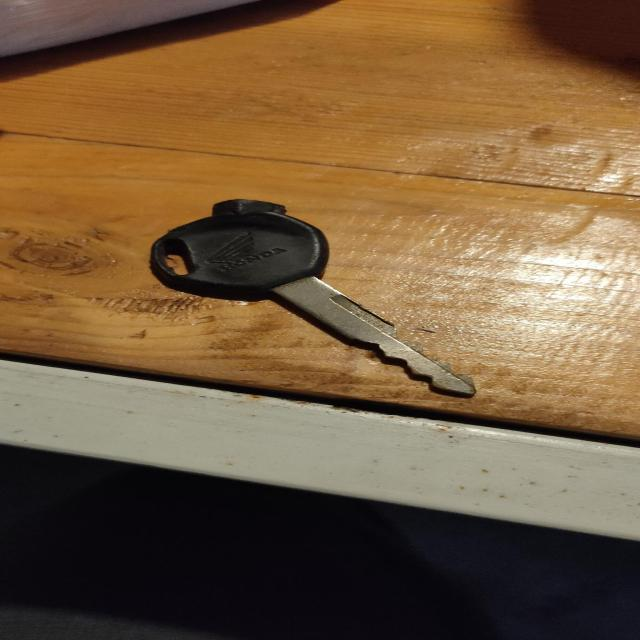kunci_motor: (133, 190, 491, 402)
